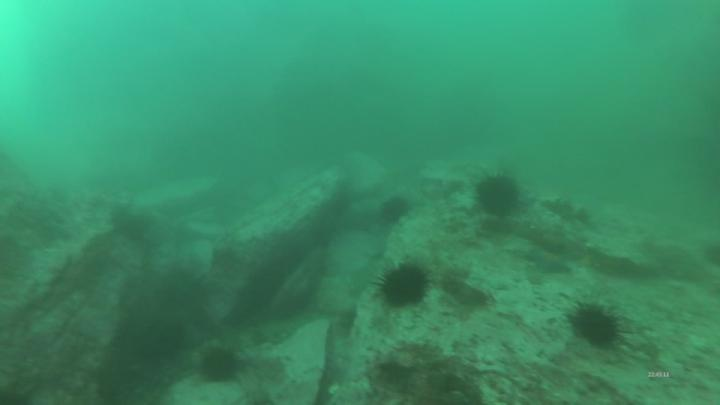echinus: (567, 297, 623, 351), (374, 260, 432, 312), (472, 170, 525, 221), (194, 341, 244, 389), (110, 210, 155, 247), (379, 195, 413, 225), (703, 243, 720, 269)
starfish: (512, 240, 575, 279)
